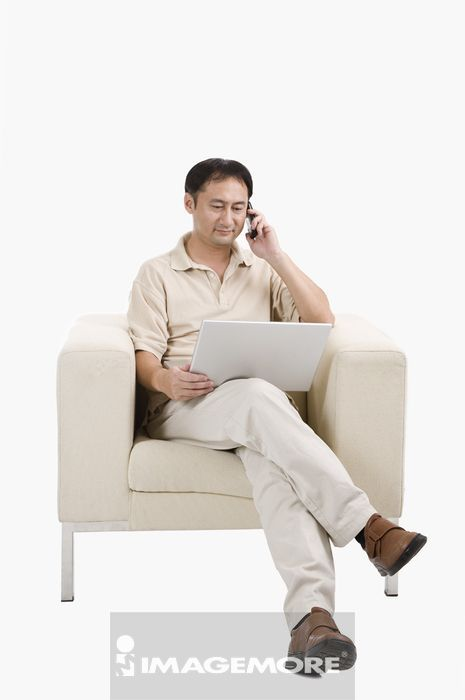talk: (203, 194, 275, 257)
